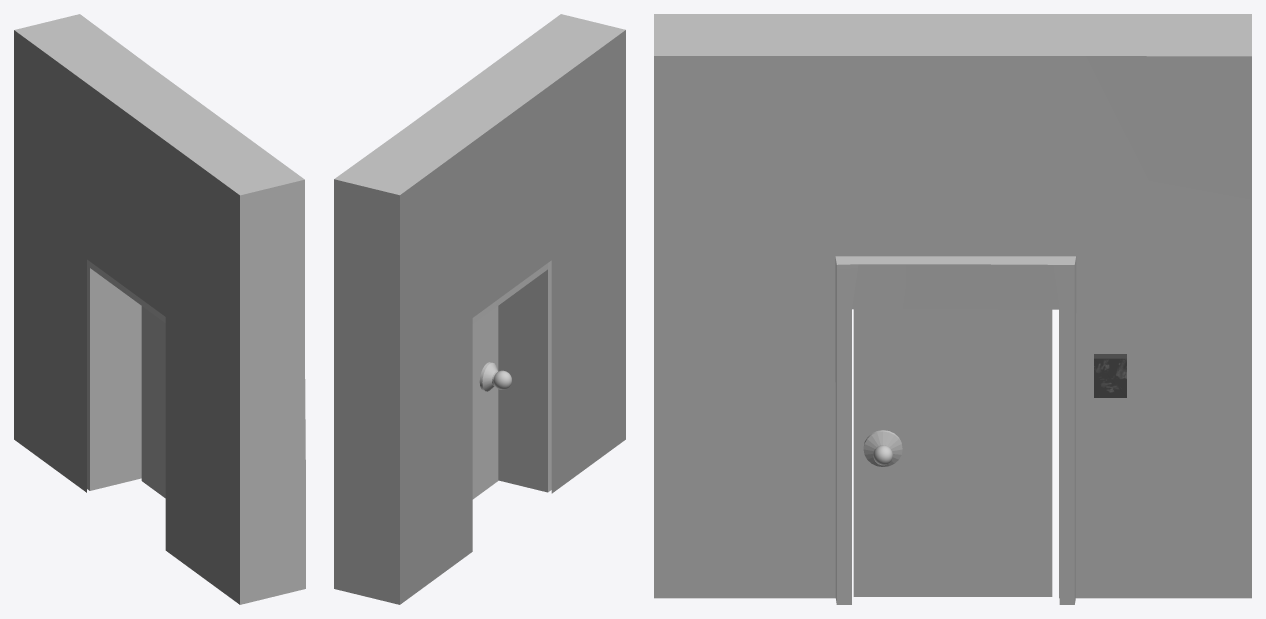
Rendered from DoubleSidedDoor_04.fbx.
The picture shows the model from 3 angles, left to right: view 1: azimuth 30°, elevation 25°; view 2: azimuth 150°, elevation 25°; view 3: azimuth 270°, elevation 25°; orthographic projection. The views are drawn at different scales.
Parts seen in each view (by area): view 1: DoubleSidedDoor_04; view 2: DoubleSidedDoor_04; view 3: DoubleSidedDoor_04.
Part boxes in pixels (x1,y1,x2,y2): DoubleSidedDoor_04: (14, 14, 305, 604); DoubleSidedDoor_04: (334, 14, 625, 604); DoubleSidedDoor_04: (654, 14, 1251, 604).
Size of the model in its own units: 86.47 by 400 by 400.
